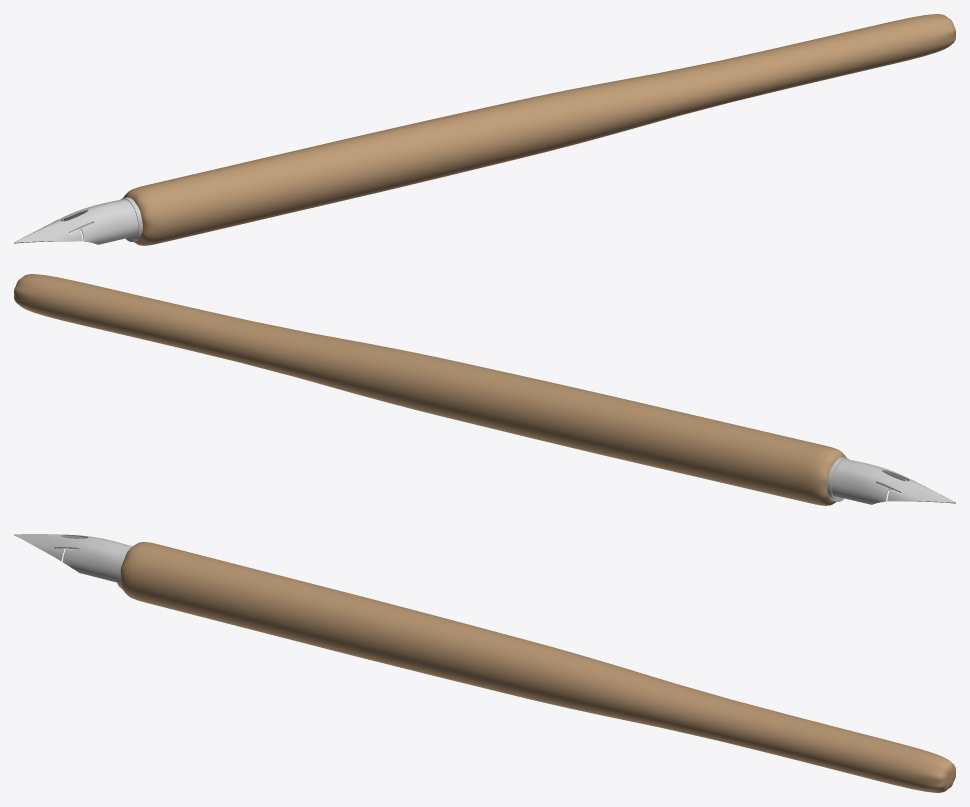
The model's file is 278_Gペン.glb.
The picture shows the model from 3 angles, top to bottom: view 1: azimuth 30°, elevation 25°; view 2: azimuth 150°, elevation 25°; view 3: azimuth 330°, elevation 25°; orthographic projection.
Parts seen in each view (by area): view 1: ペン軸, Gペン先; view 2: ペン軸, Gペン先; view 3: ペン軸, Gペン先.
Part boxes in pixels (x1=…): ペン軸: x1=121, y1=14, x2=955, y2=245; Gペン先: x1=14, y1=199, x2=138, y2=244; ペン軸: x1=14, y1=274, x2=848, y2=505; Gペン先: x1=831, y1=459, x2=955, y2=504; ペン軸: x1=116, y1=542, x2=955, y2=792; Gペン先: x1=14, y1=534, x2=129, y2=582.
Bounding box in the file's own units: 0.1813 × 0.0106 × 0.01.
